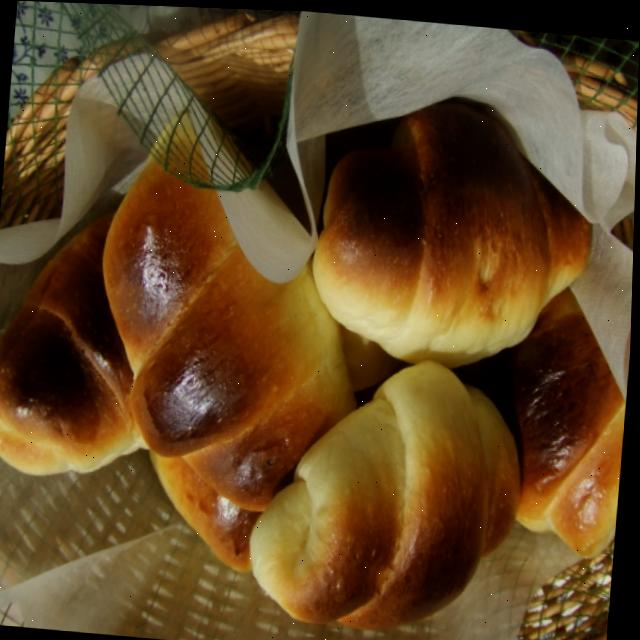面包点心: (241, 332, 533, 640)
